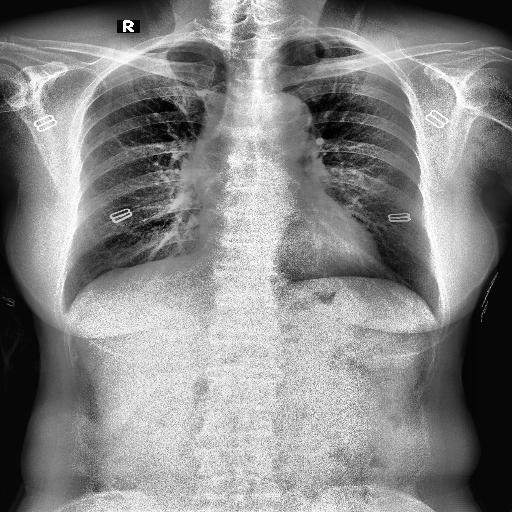0- Aortic enlargement: (190, 90, 314, 198), (192, 94, 312, 202), (264, 93, 311, 141)
